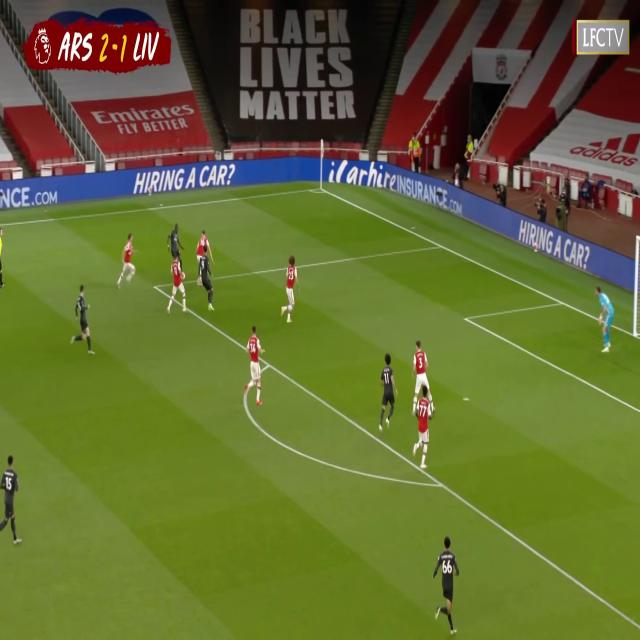ball: (180, 269, 186, 279)
team1: (431, 537, 460, 635), (2, 458, 22, 548), (74, 285, 95, 354), (195, 245, 216, 311), (379, 357, 397, 432), (169, 222, 183, 262)
team2: (411, 387, 433, 471), (413, 341, 434, 418), (168, 250, 189, 317), (118, 232, 138, 290), (248, 328, 263, 404), (283, 255, 299, 324), (196, 222, 214, 262)
